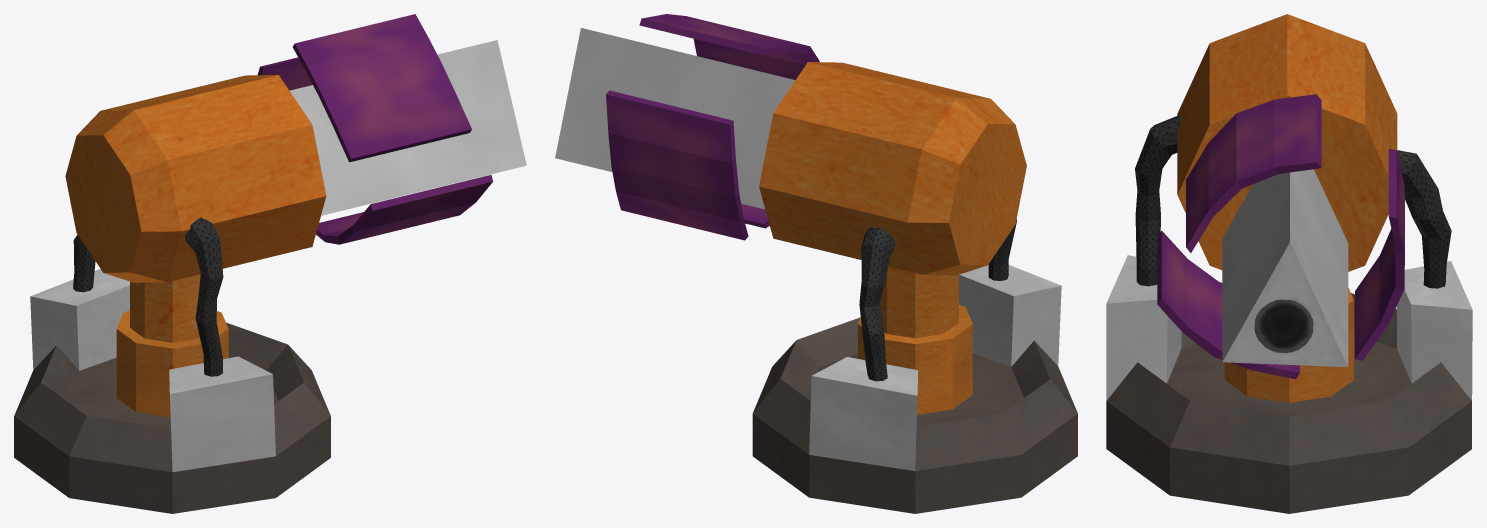
Rendered from TorreDanoArea3.fbx.
3 views of the same model, side by side, from view 1: azimuth 30°, elevation 25°; view 2: azimuth 150°, elevation 25°; view 3: azimuth 270°, elevation 25° (orthographic). The views are drawn at different scales.
Parts seen in each view (by area): view 1: Plane; view 2: Plane; view 3: Plane.
Part boxes in pixels (x1,y1,x2,y2): Plane: [14, 14, 526, 513]; Plane: [555, 14, 1077, 513]; Plane: [1106, 14, 1472, 513].
Size of the model in its own units: 647 by 489 by 390.
